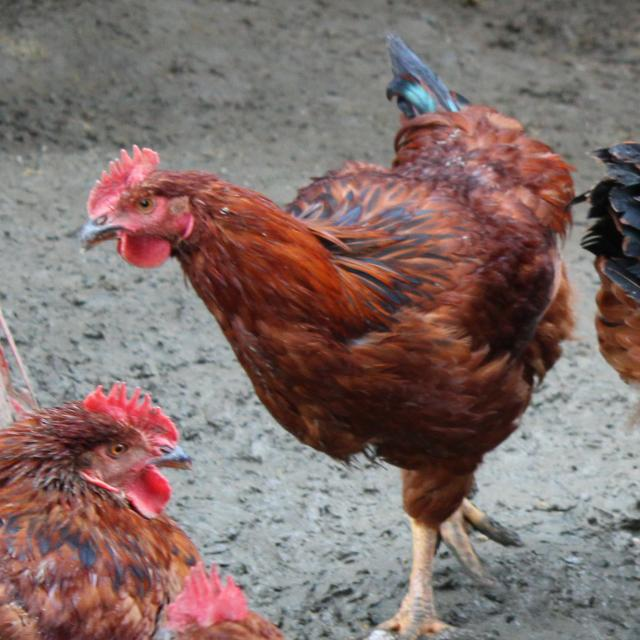cook: (82, 35, 573, 640)
